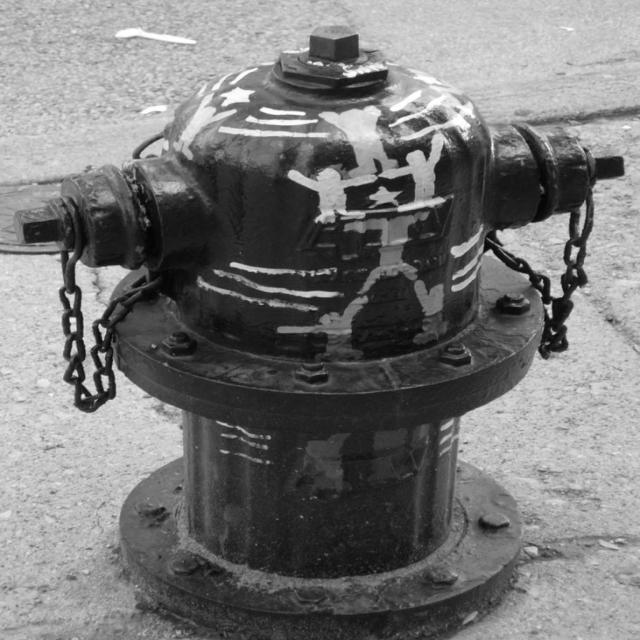fire_hydrant: (16, 26, 626, 640)
